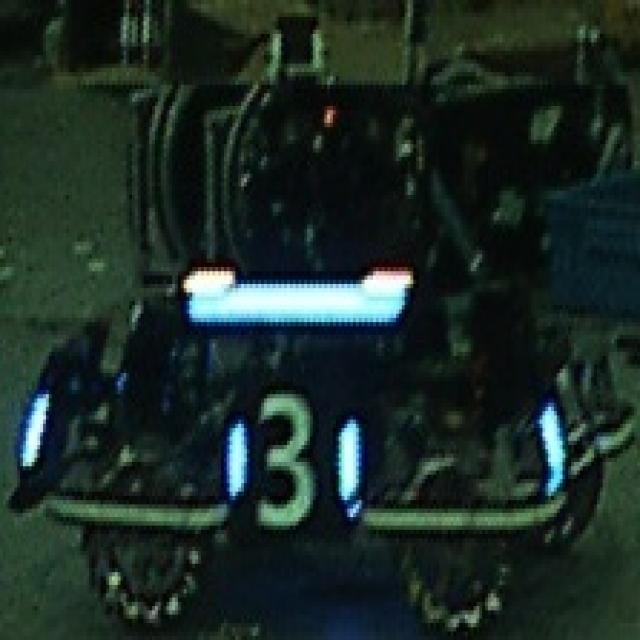B3: (221, 386, 356, 526)
